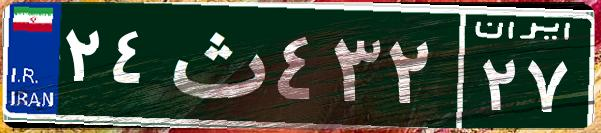2: (385, 28, 445, 110), (57, 26, 110, 107), (475, 38, 525, 113)
3: (330, 28, 385, 110)
4: (273, 28, 330, 110), (110, 28, 158, 105)
7: (525, 38, 570, 115)
ث: (158, 15, 273, 115)
